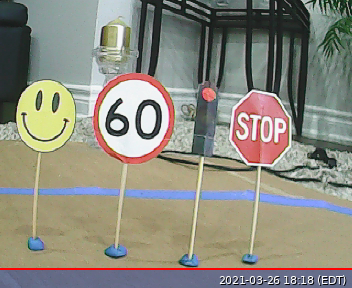Person: (15, 78, 76, 153)
Red Traffic Light: (188, 80, 219, 159)
Speed Limit 60: (92, 72, 176, 165)
Stop Sign: (229, 89, 292, 168)
